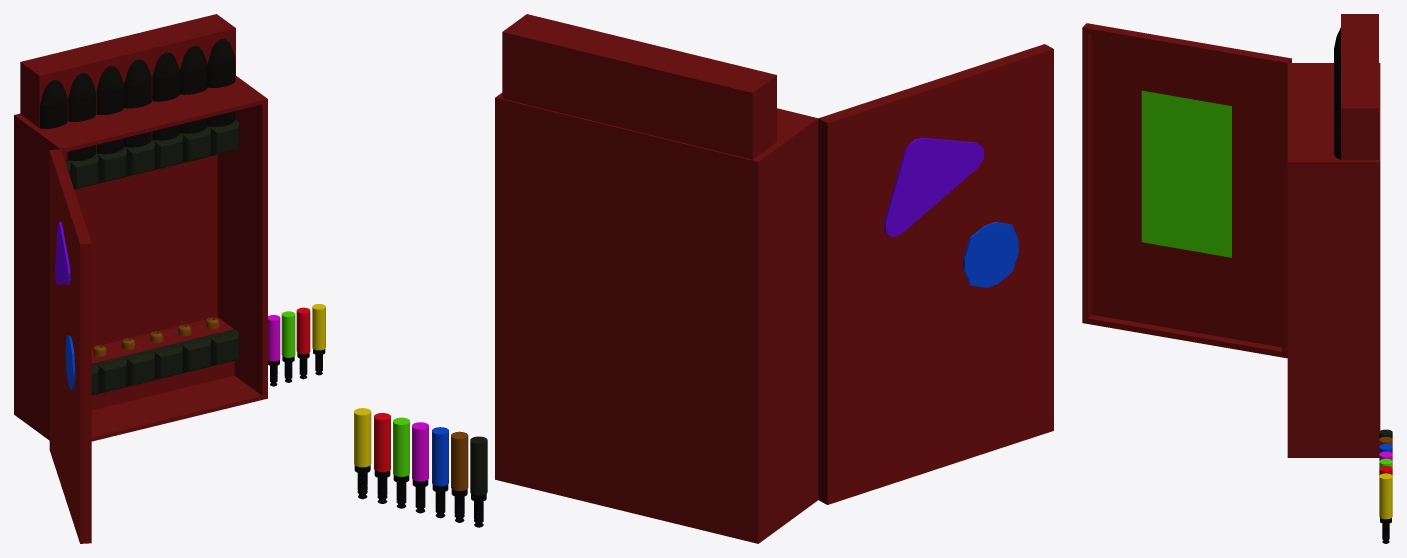
Rendered from StaticMesh_ELectrical_panel.fbx.
3 views of the same model, side by side, from view 1: azimuth 30°, elevation 25°; view 2: azimuth 150°, elevation 25°; view 3: azimuth 270°, elevation 25° (orthographic). The views are drawn at different scales.
Visible parts, largest first — view 1: polySurface90, polySurface81, polySurface88, polySurface87, polySurface89, polySurface86; view 2: polySurface90, polySurface81, polySurface89, polySurface84, polySurface83, polySurface86, polySurface87, polySurface85, polySurface88; view 3: polySurface81, polySurface90, polySurface89.
Part boxes in pixels (left/top/right/bottom): polySurface90: left=14, top=14, right=267, bottom=441; polySurface81: left=49, top=149, right=91, bottom=543; polySurface88: left=296, top=307, right=310, bottom=379; polySurface87: left=281, top=311, right=295, bottom=382; polySurface89: left=312, top=304, right=325, bottom=375; polySurface86: left=268, top=315, right=280, bottom=386; polySurface90: left=495, top=14, right=818, bottom=543; polySurface81: left=818, top=44, right=1053, bottom=504; polySurface89: left=354, top=408, right=371, bottom=499; polySurface84: left=451, top=431, right=468, bottom=522; polySurface83: left=470, top=436, right=487, bottom=527; polySurface86: left=412, top=422, right=428, bottom=513; polySurface87: left=393, top=417, right=409, bottom=508; polySurface85: left=432, top=427, right=448, bottom=518; polySurface88: left=374, top=413, right=390, bottom=503; polySurface81: left=1082, top=23, right=1291, bottom=358; polySurface90: left=1287, top=14, right=1380, bottom=457; polySurface89: left=1379, top=473, right=1392, bottom=543.
Bounding box in the file's own units: 94.89 × 89.14 × 65.23.
